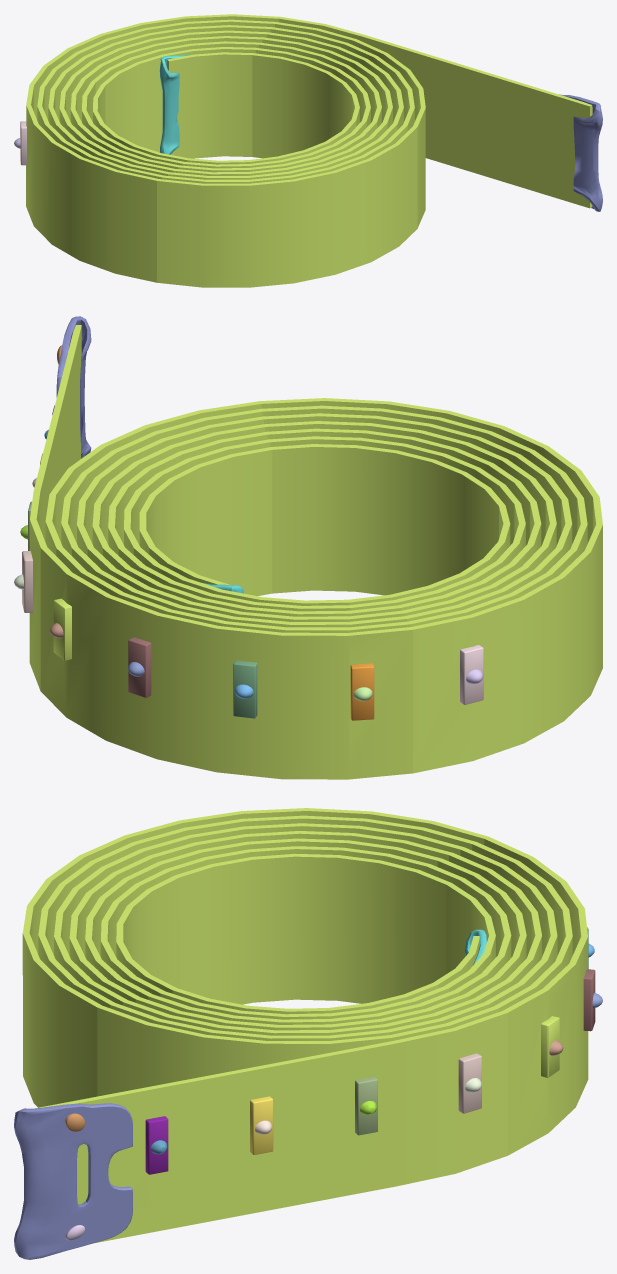
3 renders of one model, top to bottom at view 1: azimuth 30°, elevation 25°; view 2: azimuth 150°, elevation 25°; view 3: azimuth 270°, elevation 25°, orthographic. The views are drawn at different scales.
Parts seen in each view (by area): view 1: split_parent_0, split_parent_4, split_parent_5; view 2: split_parent_0, split_parent_4, Tape_1_metall_0.022, Tape_1_metall_0.026, Tape_1_metall_0.020, Tape_1_metall_0.029, Tape_1_metall_0.011; view 3: split_parent_0, split_parent_4, Tape_1_metall_0.011, Tape_1_metall_0.001, Tape_1_metall_0.004, Tape_1_metall_0.007, Tape_1_metall_0.020.
Part boxes in pixels (x1=…): split_parent_0: x1=26, y1=14, x2=592, y2=287; split_parent_4: x1=559, y1=94, x2=602, y2=211; split_parent_5: x1=159, y1=55, x2=189, y2=154; split_parent_0: x1=29, y1=325, x2=602, y2=779; split_parent_4: x1=56, y1=316, x2=91, y2=458; Tape_1_metall_0.022: x1=233, y1=660, x2=257, y2=718; Tape_1_metall_0.026: x1=350, y1=663, x2=374, y2=720; Tape_1_metall_0.020: x1=128, y1=637, x2=151, y2=697; Tape_1_metall_0.029: x1=460, y1=645, x2=483, y2=704; Tape_1_metall_0.011: x1=22, y1=551, x2=32, y2=612; split_parent_0: x1=22, y1=808, x2=588, y2=1243; split_parent_4: x1=14, y1=1103, x2=132, y2=1259; Tape_1_metall_0.011: x1=458, y1=1053, x2=481, y2=1113; Tape_1_metall_0.001: x1=145, y1=1116, x2=168, y2=1174; Tape_1_metall_0.004: x1=250, y1=1096, x2=273, y2=1154; Tape_1_metall_0.007: x1=355, y1=1076, x2=377, y2=1135; Tape_1_metall_0.020: x1=583, y1=969, x2=595, y2=1031.
Size of the model in its own units: 1 by 0.2384 by 0.8106.
